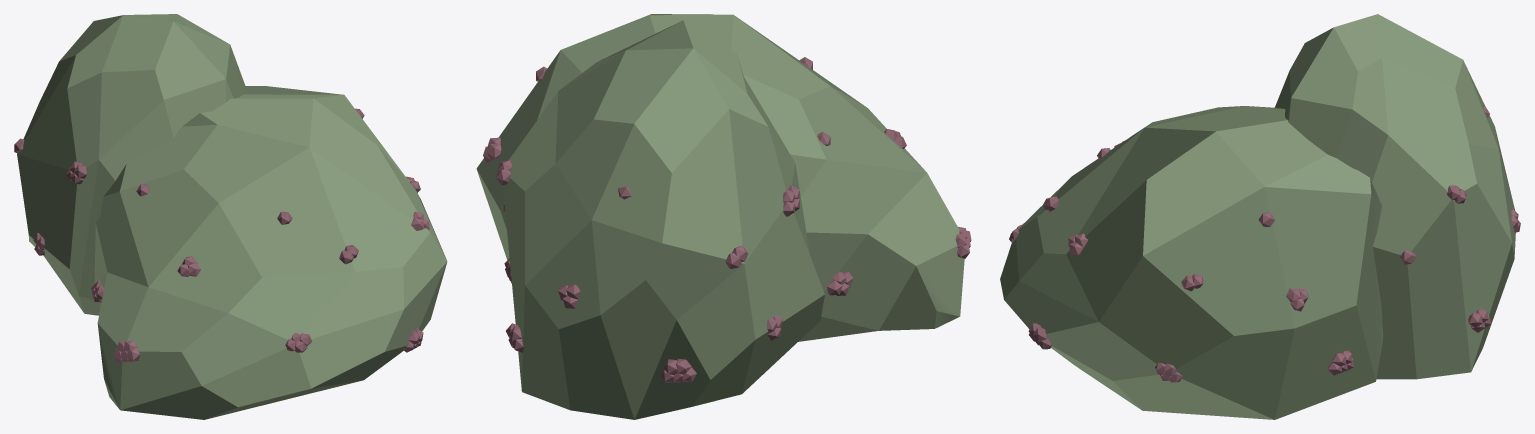
Rendered from BerryBush2.fbx.
3 views of the same model, side by side, from view 1: azimuth 30°, elevation 25°; view 2: azimuth 150°, elevation 25°; view 3: azimuth 270°, elevation 25° (orthographic). The views are drawn at different scales.
Parts seen in each view (by area): view 1: Berry_Big_bush2; view 2: Berry_Big_bush2; view 3: Berry_Big_bush2.
Boxes of the visible parts, x1,y1,x2,y2 form: Berry_Big_bush2: (14, 14, 447, 419); Berry_Big_bush2: (476, 14, 971, 419); Berry_Big_bush2: (1000, 14, 1520, 419).
Bounding box in the file's own units: 11.33 × 8.88 × 13.65.
